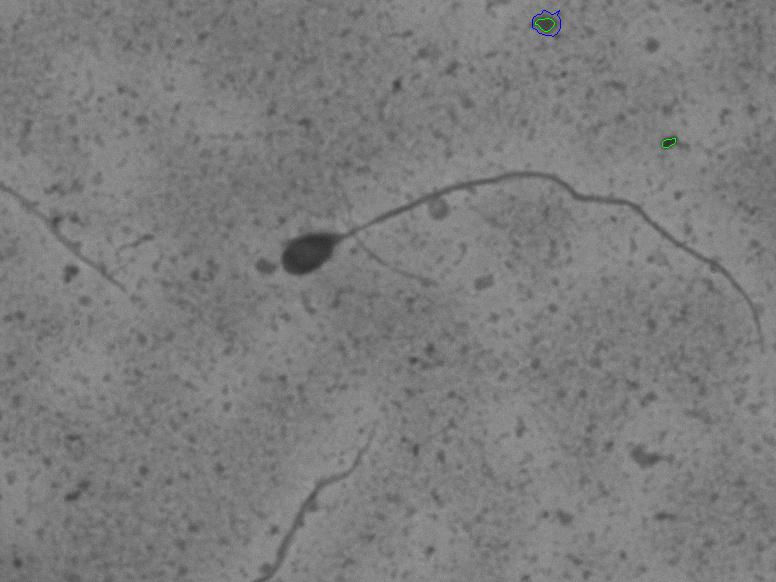Normal: (275, 148, 753, 393)
